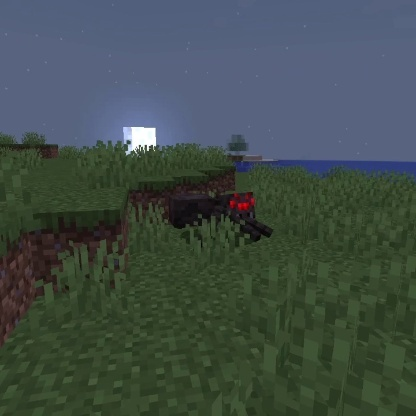spider: (167, 187, 277, 243)
